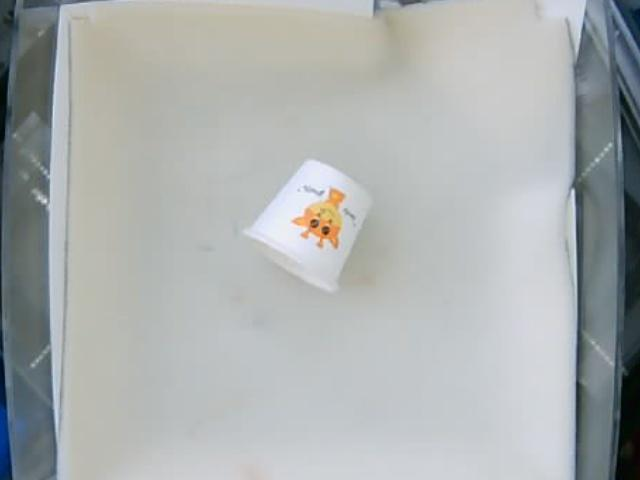Cup: (242, 158, 375, 290)
